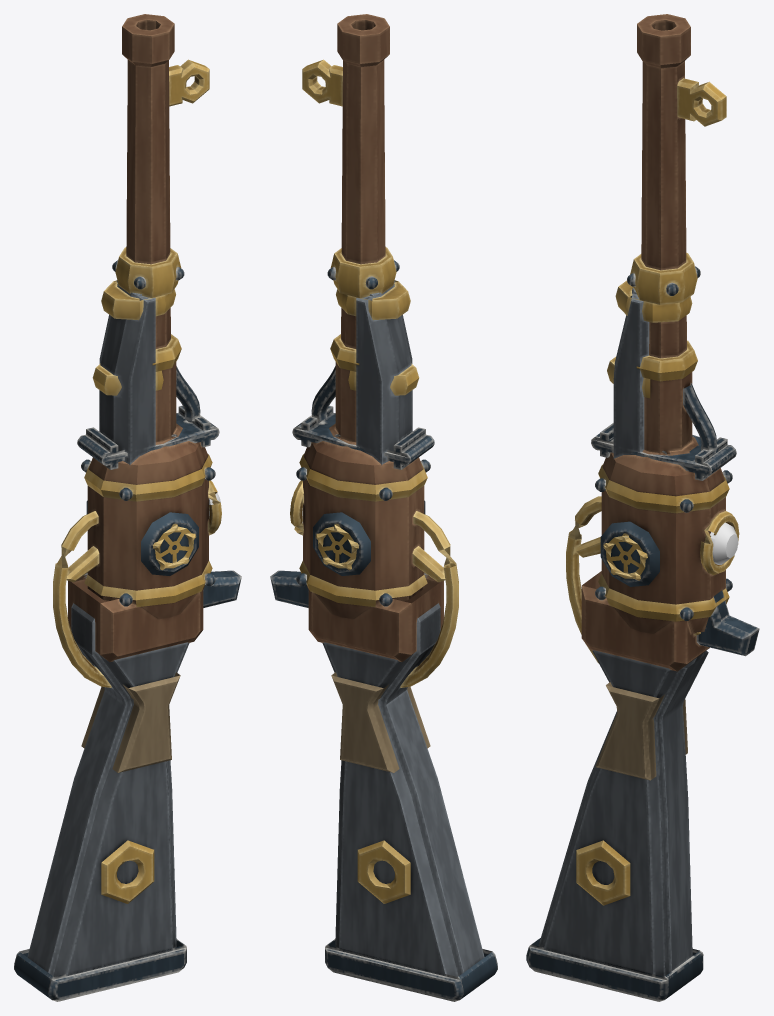
File: Steamlung Cannon.fbx
The picture shows the model from 3 angles, left to right: view 1: azimuth 30°, elevation 25°; view 2: azimuth 150°, elevation 25°; view 3: azimuth 330°, elevation 25°; orthographic projection. The views are drawn at different scales.
Visible parts, largest first — view 1: Steamlung Cannon_Body; view 2: Steamlung Cannon_Body; view 3: Steamlung Cannon_Body, Steamlung Cannon_Glow.
Part boxes in pixels (bbox=[...]): Steamlung Cannon_Body: bbox=[14, 14, 241, 1001]; Steamlung Cannon_Body: bbox=[270, 14, 497, 1001]; Steamlung Cannon_Body: bbox=[526, 14, 759, 1001]; Steamlung Cannon_Glow: bbox=[710, 522, 738, 564].
Size of the model in its own units: 0.7757 by 3.37 by 0.4341.
